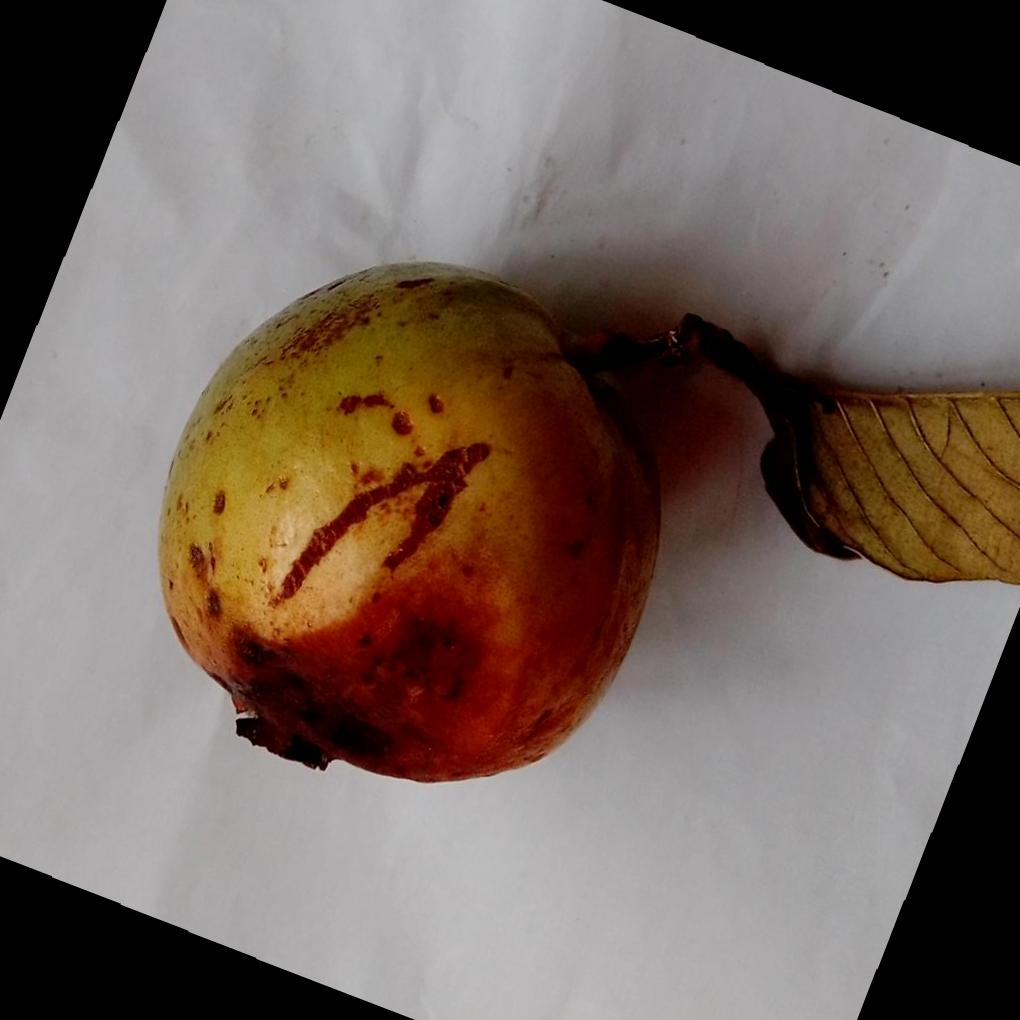FreshOrange: (156, 258, 665, 781)
